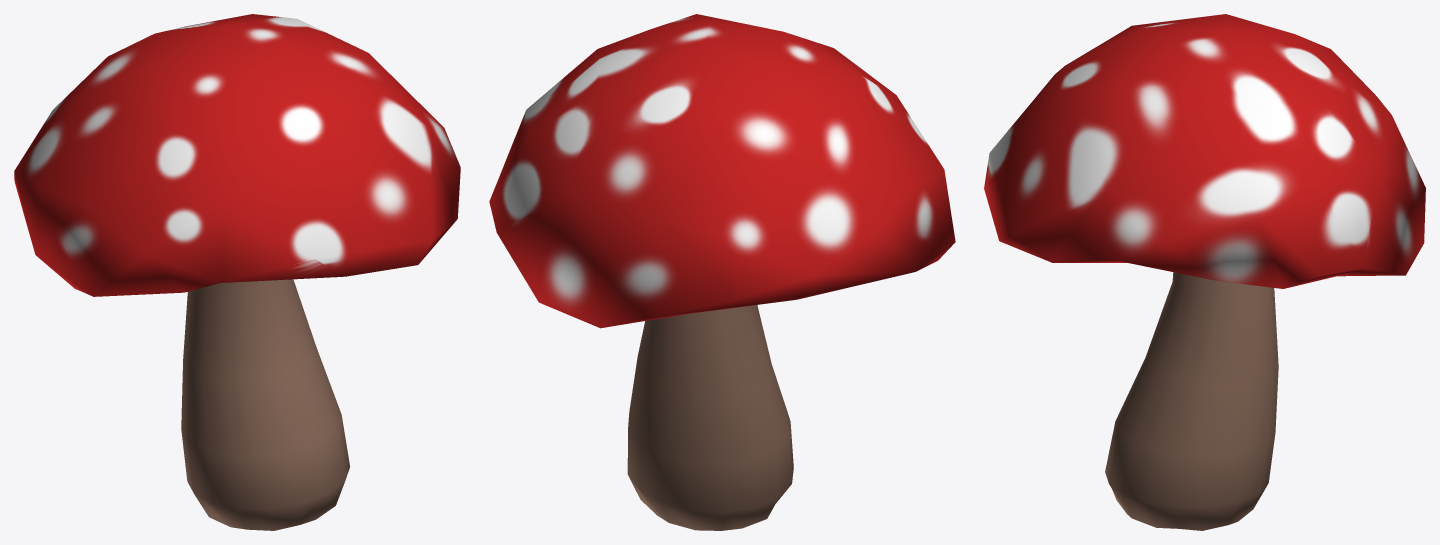
The model's file is Pilz_Rot.glb.
3 renders of one model, left to right at view 1: azimuth 30°, elevation 25°; view 2: azimuth 150°, elevation 25°; view 3: azimuth 270°, elevation 25°, orthographic. The views are drawn at different scales.
Parts seen in each view (by area): view 1: Pilz Rund.003; view 2: Pilz Rund.003; view 3: Pilz Rund.003.
Boxes of the visible parts, x1=… form: Pilz Rund.003: x1=14, y1=14, x2=460, y2=530; Pilz Rund.003: x1=489, y1=14, x2=955, y2=530; Pilz Rund.003: x1=984, y1=14, x2=1425, y2=530.
Bounding box in the file's own units: 0.5595 × 0.6612 × 0.5523.
Materials: 2 (1 with a texture image).
